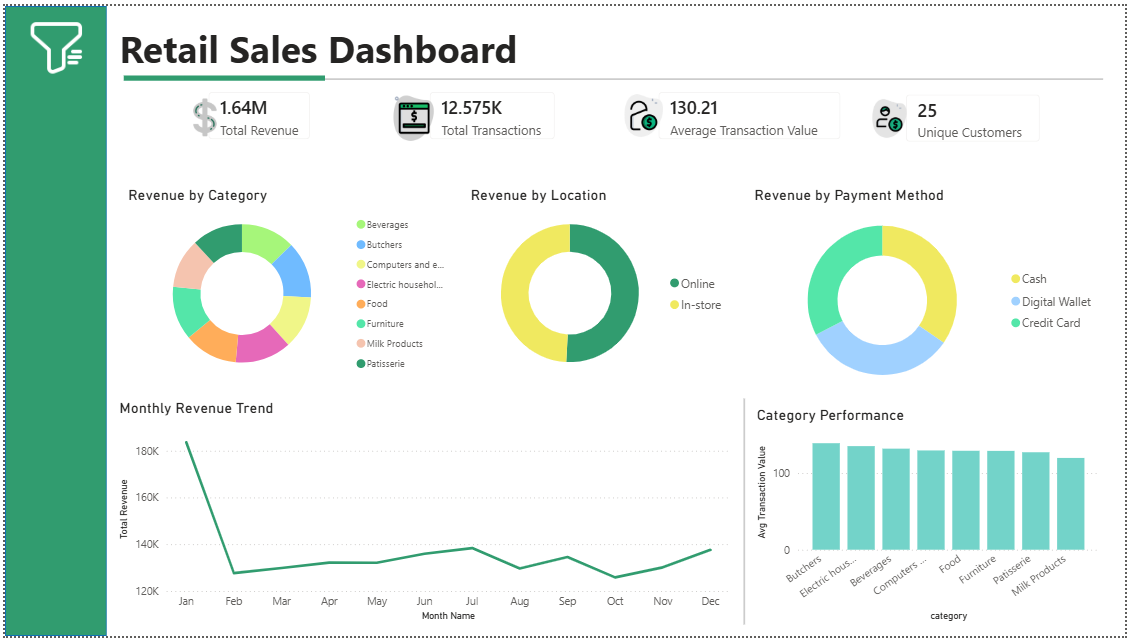

This screenshot's page, from the dashboard's own definition file:
{"tool":"powerbi","page":{"name":"Page 1","canvas":[1280,720],"ordinal":0},"visuals":[{"type":"group","id":"g1","title":"Group 1","box":[0,0,1255,720],"z":0},{"type":"cardVisual","fields":{"Data":["retail_store_sales_cleaned.Total Revenue"]},"box":[216.2,81.2,150,88.8],"z":0,"group":"g1"},{"type":"cardVisual","fields":{"Data":["retail_store_sales_cleaned.Total Transactions"]},"box":[468.8,81.2,177.5,88.8],"z":1000,"group":"g1"},{"type":"cardVisual","fields":{"Data":["retail_store_sales_cleaned.Average Transaction Value"]},"box":[730,81.2,242.5,88.8],"z":2000,"group":"g1"},{"type":"cardVisual","fields":{"Data":["retail_store_sales_cleaned.Unique Customers"]},"box":[1012.5,83.8,187.5,88.8],"z":3000,"group":"g1"},{"type":"textbox","box":[126.2,13.8,582.5,82.5],"z":4000,"group":"g1"},{"type":"donutChart","title":"Revenue by Category","fields":{"Series":["retail_store_sales_cleaned.category"],"Y":["retail_store_sales_cleaned.Total Revenue"]},"box":[136,205.8,382.6,226.7],"z":5000,"group":"g1"},{"type":"donutChart","title":"Revenue by Location","fields":{"Category":["retail_store_sales_cleaned.location"],"Y":["Sum(retail_store_sales_cleaned.total_spent)"]},"box":[527.5,206.2,306.2,226.2],"z":6000,"group":"g1"},{"type":"donutChart","title":"Revenue by Payment Method","fields":{"Category":["retail_store_sales_cleaned.payment_method"],"Y":["Sum(retail_store_sales_cleaned.total_spent)"]},"box":[851.2,206.2,403.8,242.5],"z":7000,"group":"g1"},{"type":"shape","box":[0,0,116.2,720],"z":8000,"group":"g1"},{"type":"lineChart","title":"Monthly Revenue Trend","fields":{"Category":["retail_store_sales_cleaned.Month Name"],"Y":["retail_store_sales_cleaned.Total Revenue"]},"box":[126.2,448.8,707.5,260],"z":9000,"group":"g1"},{"type":"columnChart","title":"Category Performance","fields":{"Category":["retail_store_sales_cleaned.category"],"Y":["retail_store_sales_cleaned.Avg Transaction Value"]},"box":[853.8,457.5,401.2,251.2],"z":10000,"group":"g1"},{"type":"shape","box":[320,68.8,935,30],"z":11000,"group":"g1"},{"type":"shape","box":[136.2,45,230,76.2],"z":12000,"group":"g1"},{"type":"image","box":[214,105.8,45.3,43],"z":13000,"group":"g1"},{"type":"image","box":[982.6,105.8,55.8,45.3],"z":14000,"group":"g1"},{"type":"image","box":[693,100,74.4,50],"z":15000,"group":"g1"},{"type":"image","box":[423.3,101.2,89.5,53.5],"z":16000,"group":"g1"},{"type":"shape","box":[825,448.3,38.3,258.3],"z":17000,"group":"g1"},{"type":"image","box":[24.3,14.3,68.6,67.1],"z":18000,"group":"g1"}]}

Visuals, with their boxes in screenshot pixels (x1, y1, x2, y2), scaled from the page's 1280x720 canvas onto the 1131x643 screenshot:
"Group 1" group: (x1=0, y1=0, x2=1109, y2=642)
cardVisual - retail_store_sales_cleaned.Total Revenue: (x1=191, y1=73, x2=324, y2=152)
cardVisual - retail_store_sales_cleaned.Total Transactions: (x1=414, y1=73, x2=571, y2=152)
cardVisual - retail_store_sales_cleaned.Average Transaction Value: (x1=645, y1=73, x2=859, y2=152)
cardVisual - retail_store_sales_cleaned.Unique Customers: (x1=895, y1=75, x2=1060, y2=154)
textbox: (x1=112, y1=12, x2=626, y2=86)
"Revenue by Category" donutChart: (x1=120, y1=184, x2=458, y2=386)
"Revenue by Location" donutChart: (x1=466, y1=184, x2=737, y2=386)
"Revenue by Payment Method" donutChart: (x1=752, y1=184, x2=1109, y2=401)
shape: (x1=0, y1=0, x2=103, y2=642)
"Monthly Revenue Trend" lineChart: (x1=112, y1=401, x2=737, y2=633)
"Category Performance" columnChart: (x1=754, y1=409, x2=1109, y2=633)
shape: (x1=283, y1=61, x2=1109, y2=88)
shape: (x1=120, y1=40, x2=324, y2=108)
image: (x1=189, y1=94, x2=229, y2=133)
image: (x1=868, y1=94, x2=918, y2=135)
image: (x1=612, y1=89, x2=678, y2=134)
image: (x1=374, y1=90, x2=453, y2=138)
shape: (x1=729, y1=400, x2=763, y2=631)
image: (x1=21, y1=13, x2=82, y2=73)
